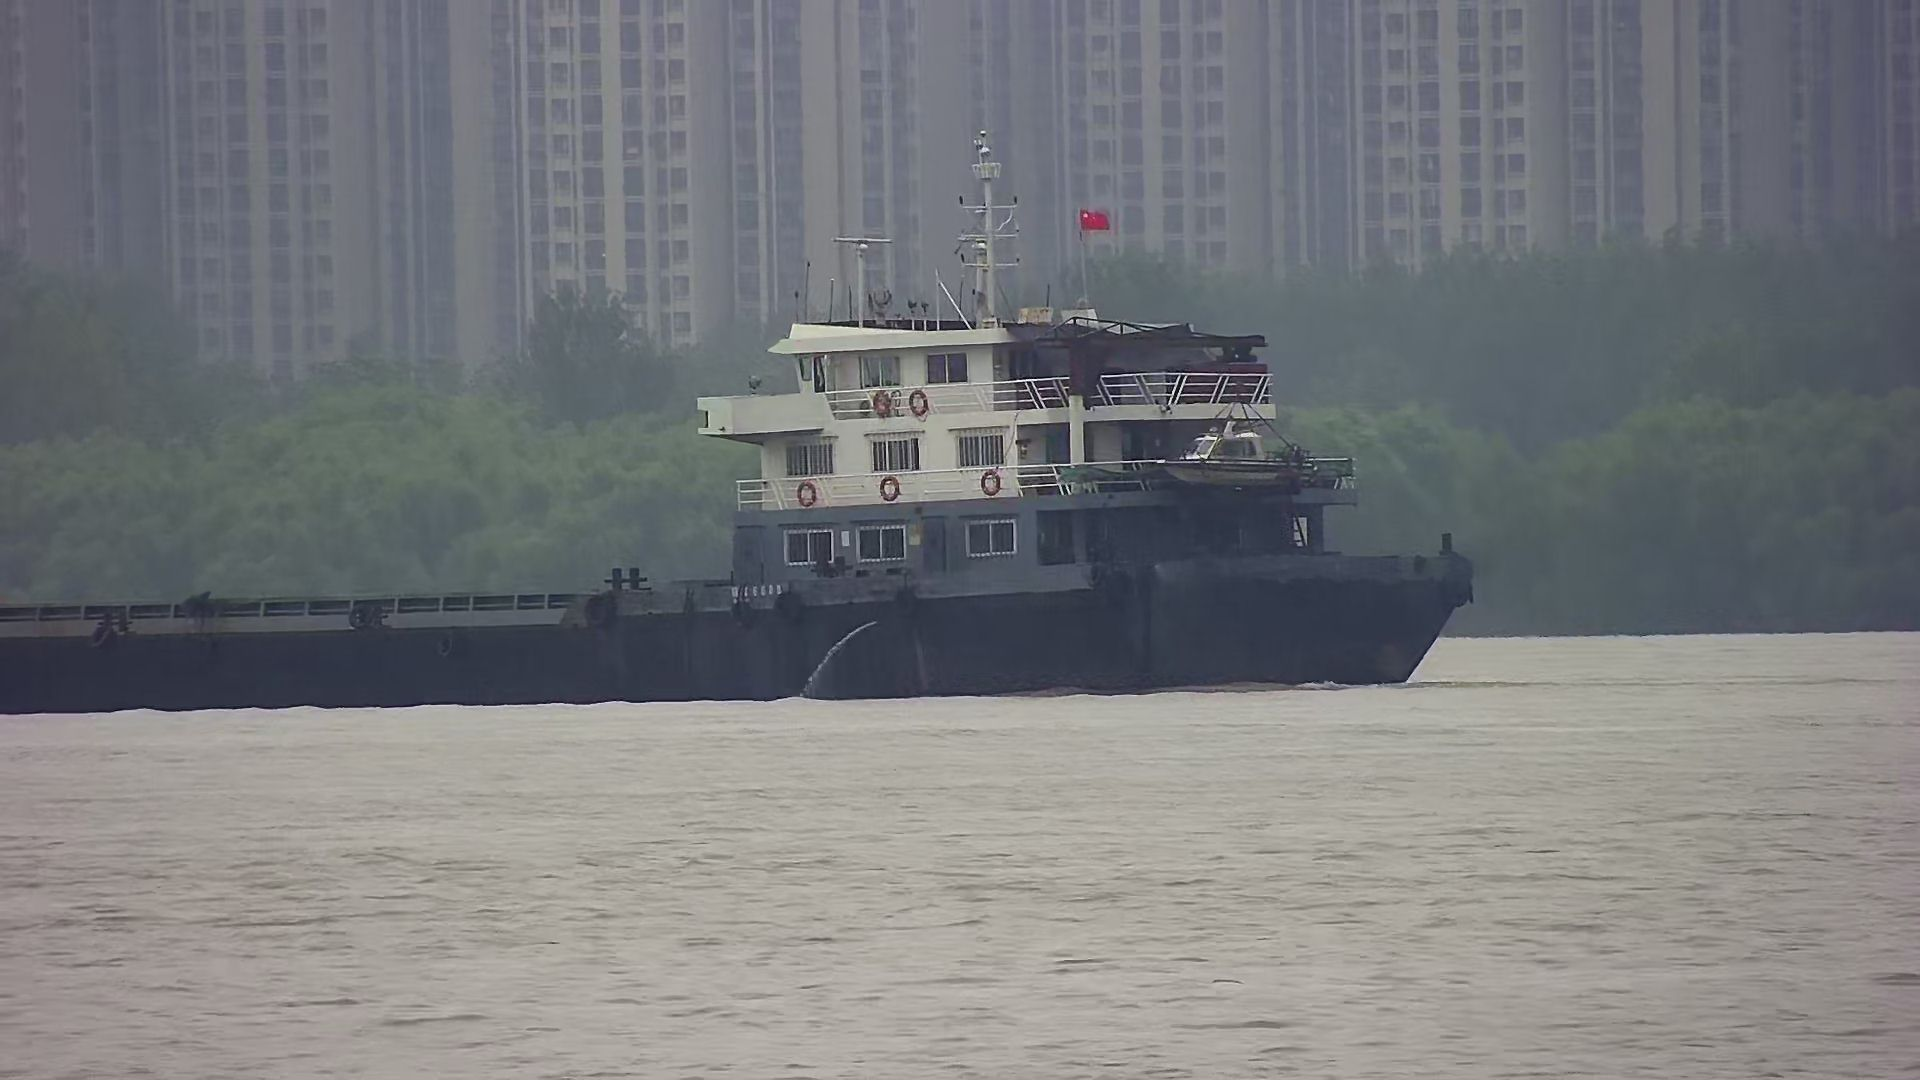ship: (1, 287, 1484, 716)
